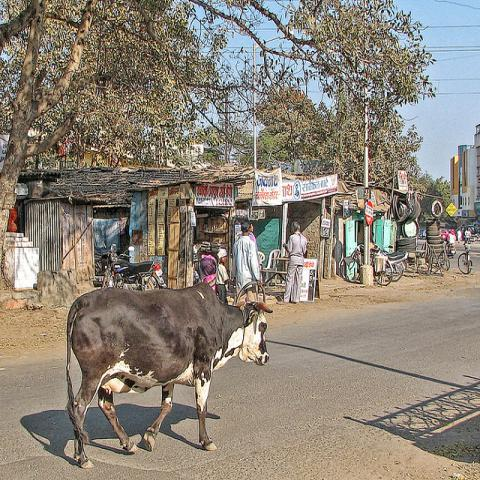motorcycle: (101, 242, 168, 290), (381, 245, 409, 282), (444, 242, 456, 259)
